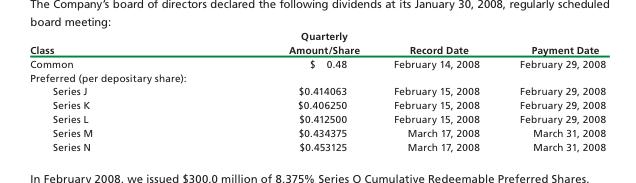table: (29, 29, 605, 152)
table column: (189, 29, 376, 152), (29, 29, 189, 152), (376, 29, 498, 152), (498, 29, 605, 152)
table column header: (29, 29, 605, 70)
table projected row header: (29, 70, 605, 83)
table row: (29, 29, 605, 70), (29, 83, 605, 97), (29, 97, 605, 111), (29, 111, 605, 125), (29, 125, 605, 139), (29, 70, 605, 83), (29, 139, 605, 152)
